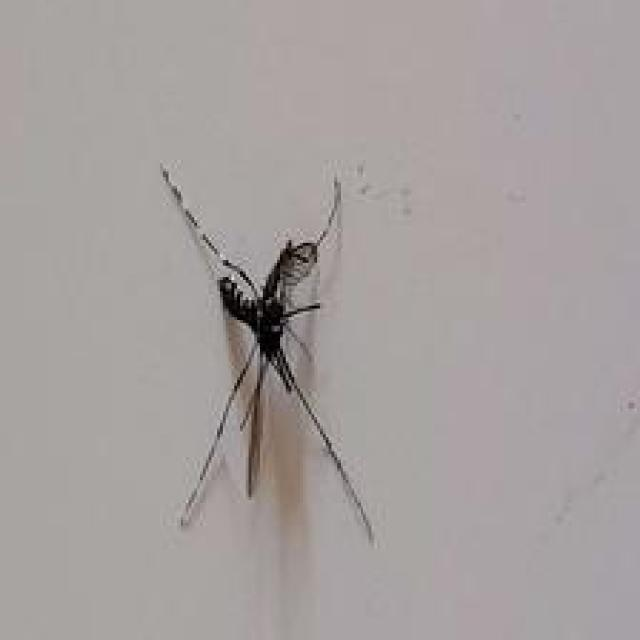Aedes albopictus: (157, 162, 377, 547)
